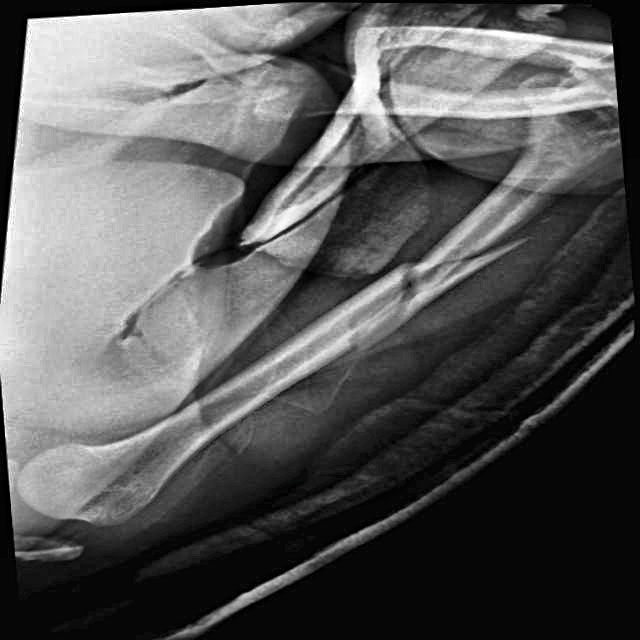Spiral: (304, 228, 547, 368)
